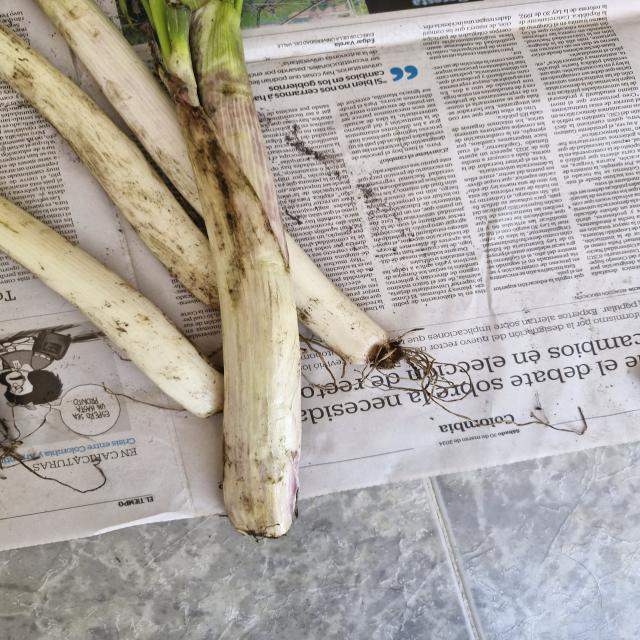green_onion: (0, 0, 582, 416), (133, 0, 295, 550)
